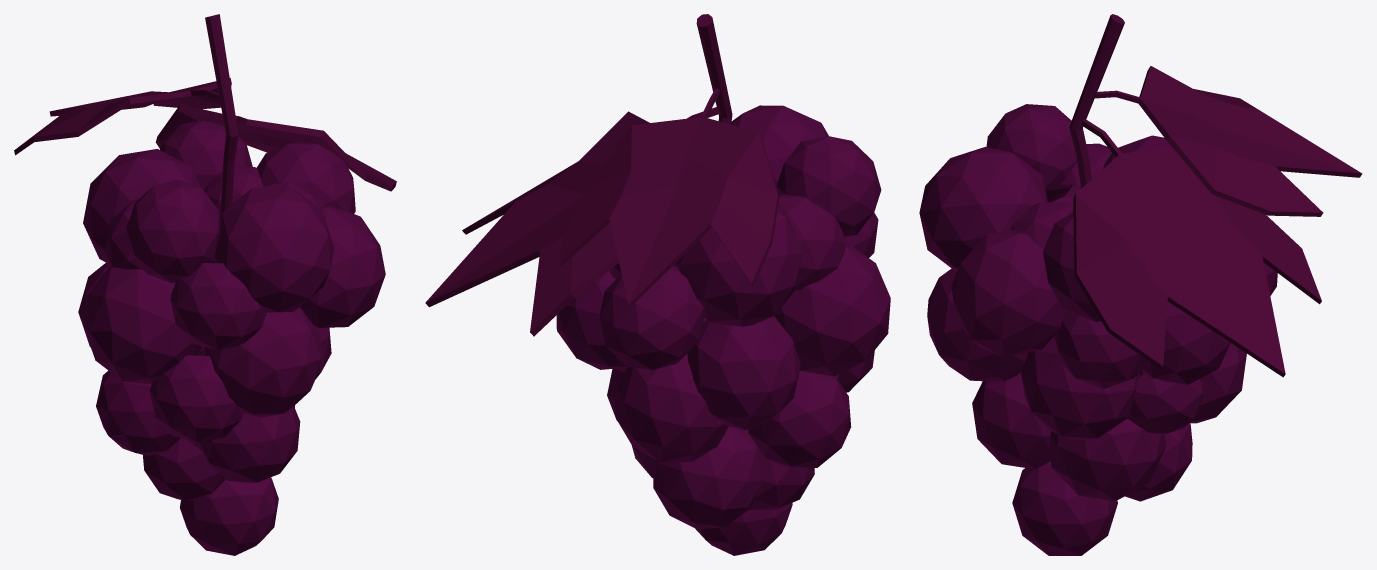
The model's file is Grape_01.fbx.
3 views of the same model, side by side, from view 1: azimuth 30°, elevation 25°; view 2: azimuth 150°, elevation 25°; view 3: azimuth 270°, elevation 25° (orthographic). The views are drawn at different scales.
Visible parts, largest first — view 1: Grape_01; view 2: Grape_01; view 3: Grape_01.
Boxes of the visible parts, x1,y1,x2,y2 form: Grape_01: (14, 14, 396, 555); Grape_01: (425, 14, 890, 555); Grape_01: (919, 14, 1362, 555).
Size of the model in its own units: 4.41 by 6.25 by 4.62.
